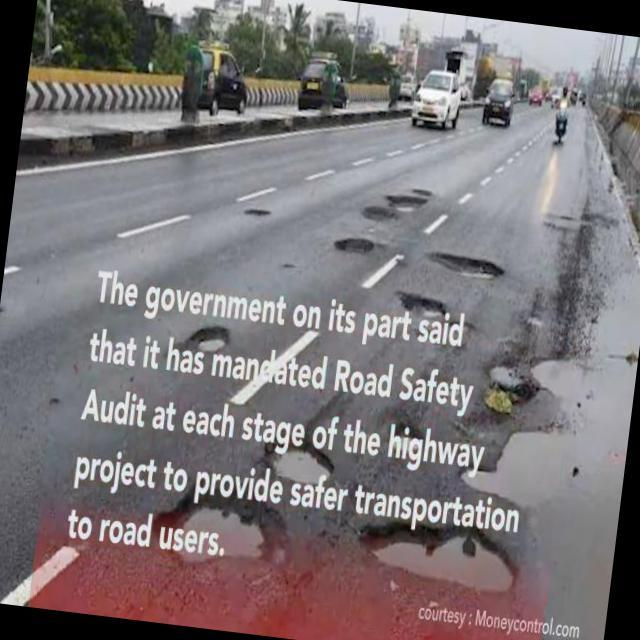Burst: (461, 284, 628, 640), (347, 506, 526, 606), (151, 489, 280, 576), (265, 436, 344, 483), (430, 249, 507, 287), (401, 288, 450, 317), (188, 322, 232, 352), (334, 234, 372, 262), (388, 196, 427, 223)
